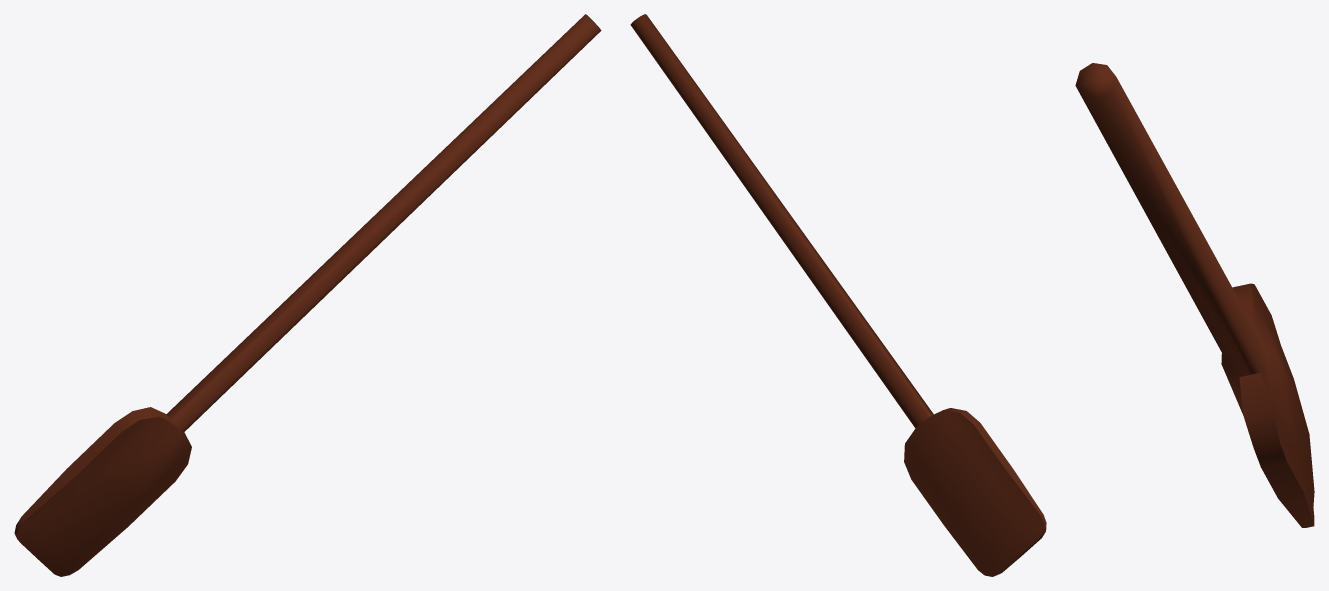
Rendered from rightStick.fbx.
3 renders of one model, left to right at view 1: azimuth 30°, elevation 25°; view 2: azimuth 150°, elevation 25°; view 3: azimuth 270°, elevation 25°, orthographic. The views are drawn at different scales.
Parts seen in each view (by area): view 1: remo1; view 2: remo1; view 3: remo1.
Boxes of the visible parts, x1,y1,x2,y2 form: remo1: (14, 14, 601, 576); remo1: (630, 14, 1046, 576); remo1: (1075, 63, 1314, 527).
Size of the model in its own units: 126 by 111 by 28.37.
